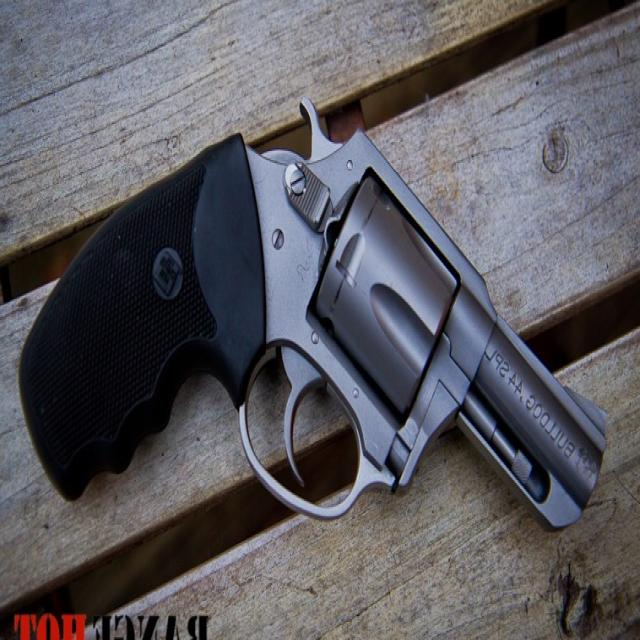Gun: (6, 121, 626, 554)
